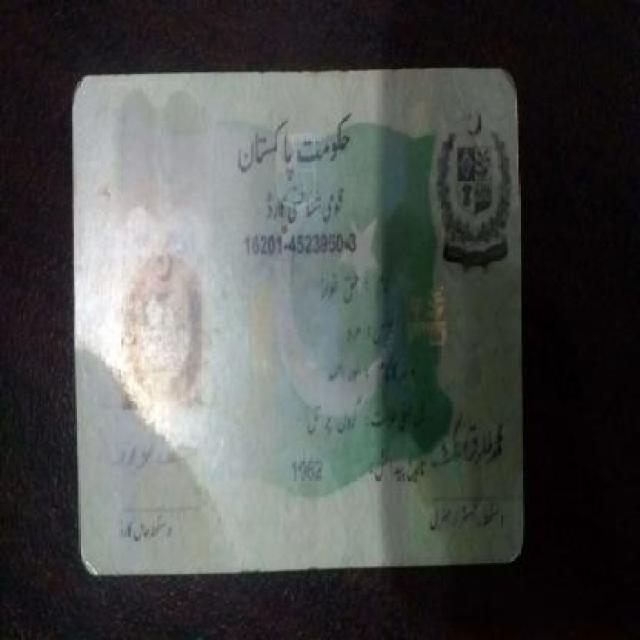Front: (68, 65, 526, 572)
